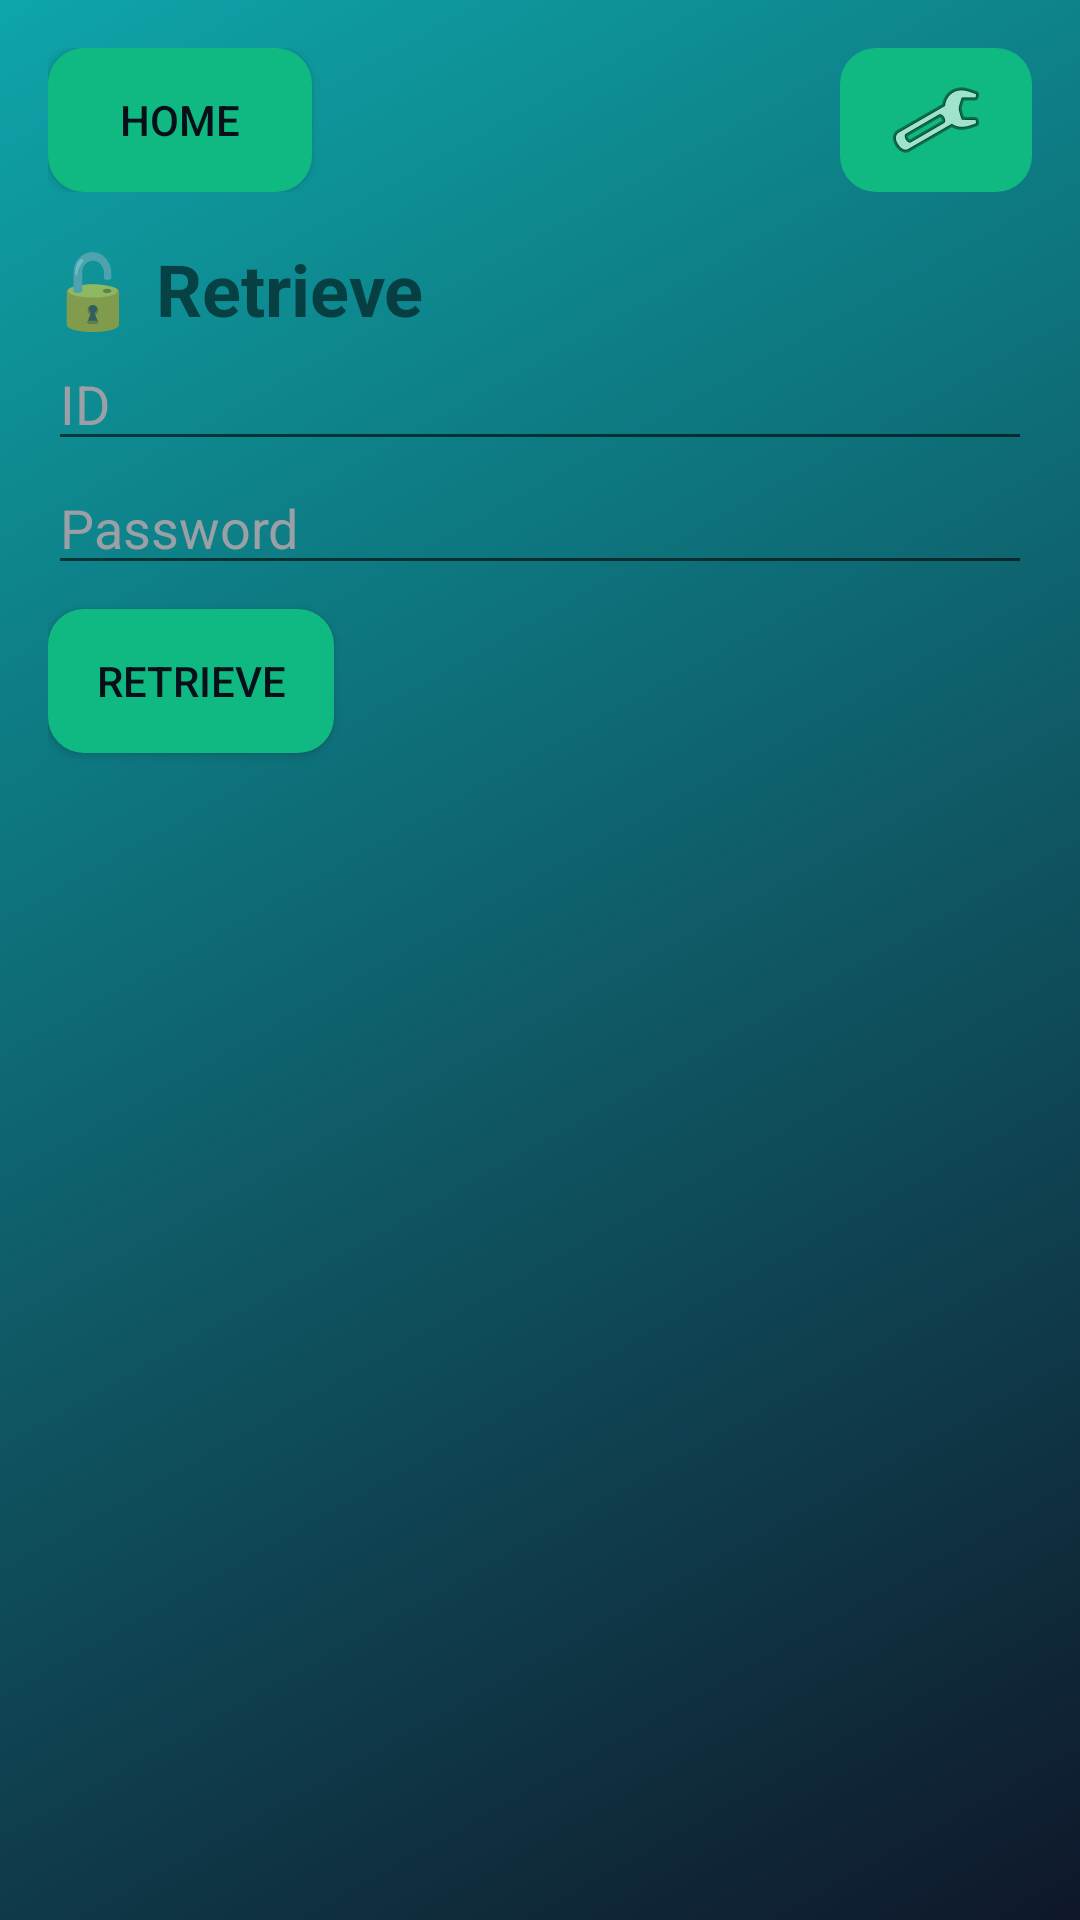

Named icons in this screenshot (1080w x 1920h) and their bounding boxes, detection(x1, y1, x2, y2):
Settings: detection(840, 48, 1032, 192)
